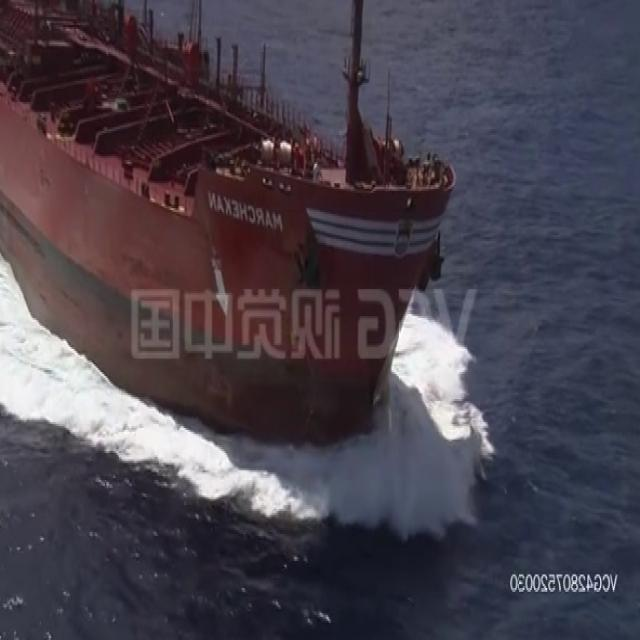cargoship: (0, 0, 455, 426)
